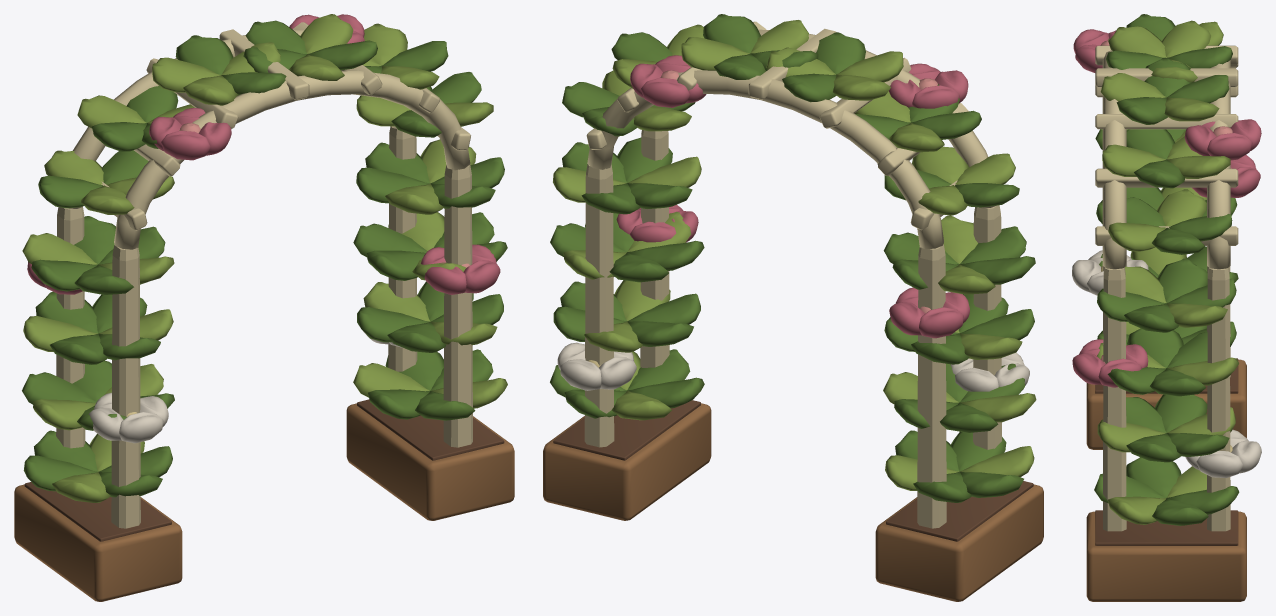
The model's file is DEC_Flower_Arch_A.fbx.
3 views of the same model, side by side, from view 1: azimuth 30°, elevation 25°; view 2: azimuth 150°, elevation 25°; view 3: azimuth 270°, elevation 25° (orthographic). The views are drawn at different scales.
Visible parts, largest first — view 1: DEC_Flower_Arch_A_LOD0; view 2: DEC_Flower_Arch_A_LOD0; view 3: DEC_Flower_Arch_A_LOD0.
Part boxes in pixels (bbox=[...]): DEC_Flower_Arch_A_LOD0: bbox=[14, 14, 514, 601]; DEC_Flower_Arch_A_LOD0: bbox=[543, 14, 1043, 601]; DEC_Flower_Arch_A_LOD0: bbox=[1072, 14, 1261, 601].
Size of what is drawn, in the model's own units: 2.33 by 2.25 by 0.8753.
